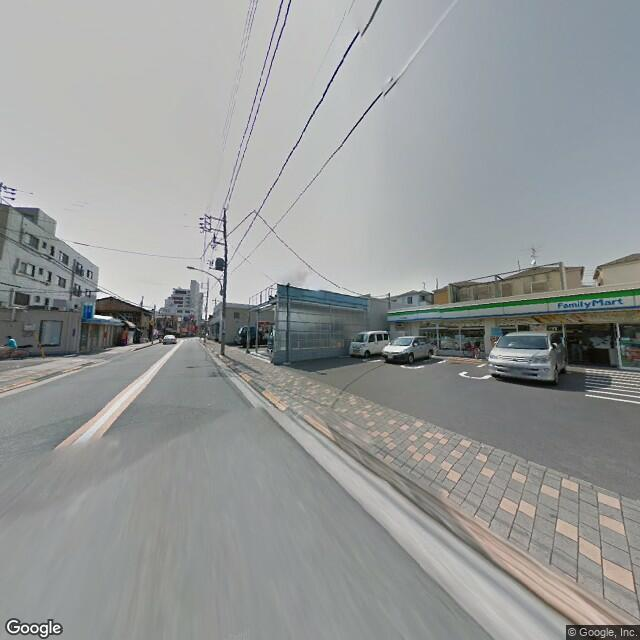family_mart: (384, 286, 639, 326), (555, 295, 625, 312)
